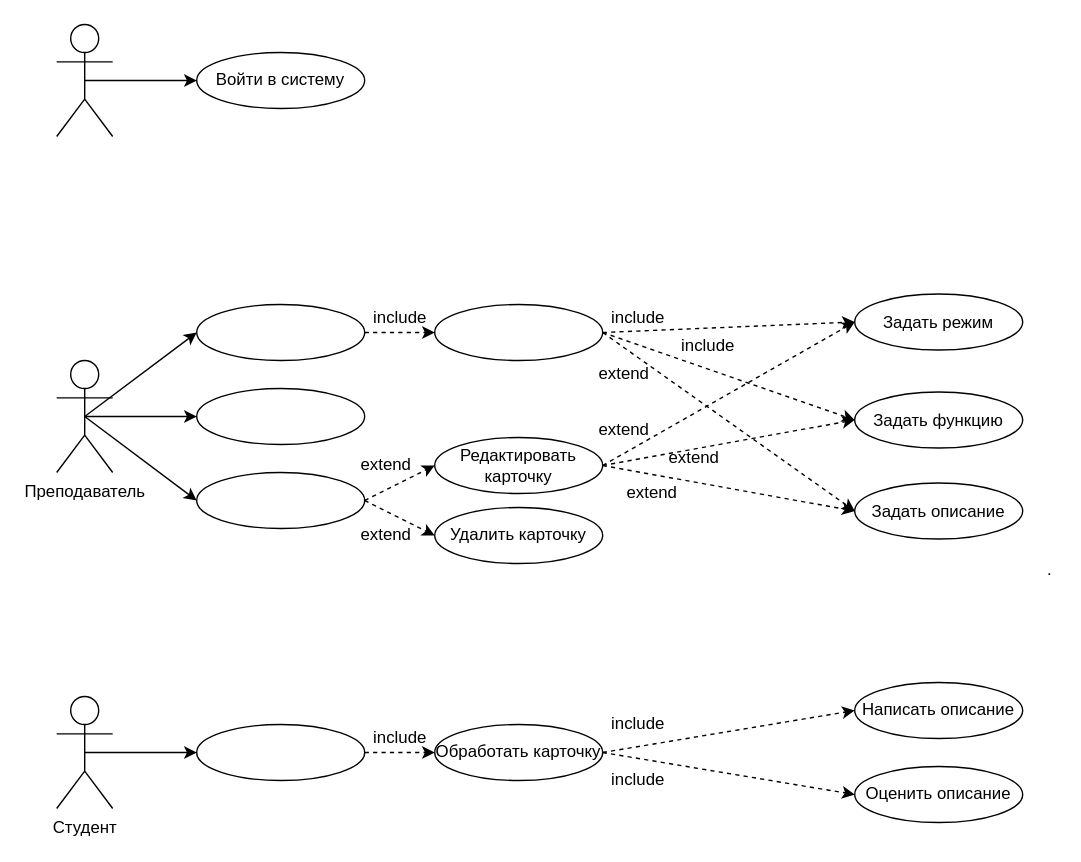
Image size: 1081x862. Some labels were removed from this diagram. Here are the shapes that lost their labels. From the top down, the box of each, then its label:
(55, 23, 113, 136): Гость
(195, 303, 365, 360): Создать набор
(433, 303, 603, 360): Создать карточку
(195, 387, 365, 444): Удалить набор
(195, 471, 365, 528): Редактировать набор
(195, 723, 365, 780): Выполнить набор
